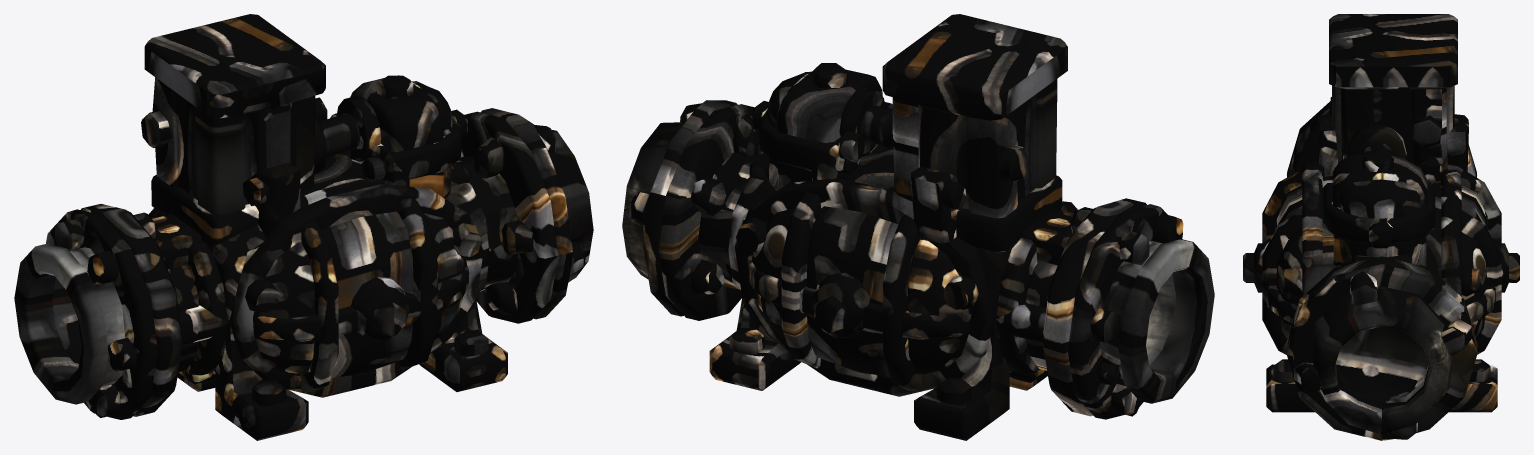
Rendered from Pump_shape_cleanup.fbx.
The picture shows the model from 3 angles, left to right: view 1: azimuth 30°, elevation 25°; view 2: azimuth 150°, elevation 25°; view 3: azimuth 270°, elevation 25°; orthographic projection. The views are drawn at different scales.
Visible parts, largest first — view 1: tripo_convert_23e97eb0_8bde_402a_bfff_ac4c4e33ca50; view 2: tripo_convert_23e97eb0_8bde_402a_bfff_ac4c4e33ca50; view 3: tripo_convert_23e97eb0_8bde_402a_bfff_ac4c4e33ca50.
Part boxes in pixels (x1=…): tripo_convert_23e97eb0_8bde_402a_bfff_ac4c4e33ca50: x1=14, y1=14, x2=593, y2=440; tripo_convert_23e97eb0_8bde_402a_bfff_ac4c4e33ca50: x1=622, y1=14, x2=1214, y2=440; tripo_convert_23e97eb0_8bde_402a_bfff_ac4c4e33ca50: x1=1243, y1=14, x2=1519, y2=440.
Size of the model in its own units: 0.998 by 0.6201 by 0.5371.
